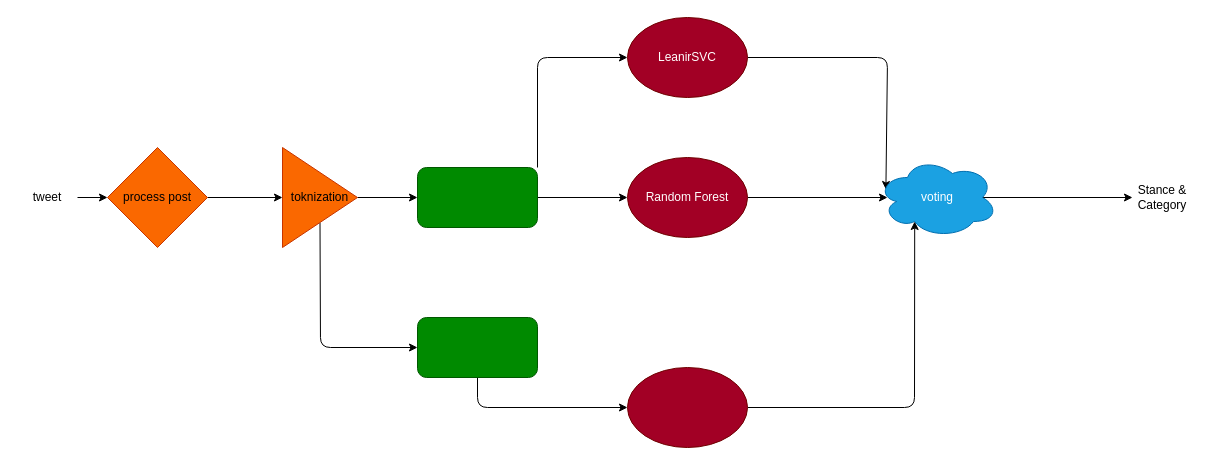
Image size: 1209x465. Some labels were removed from this diagram. The centre of each missing label's shape, as x and y in pixels:
Ara2Vec Embedding: [477,347]
GRU: [687,407]
TF-IDF: [477,197]
